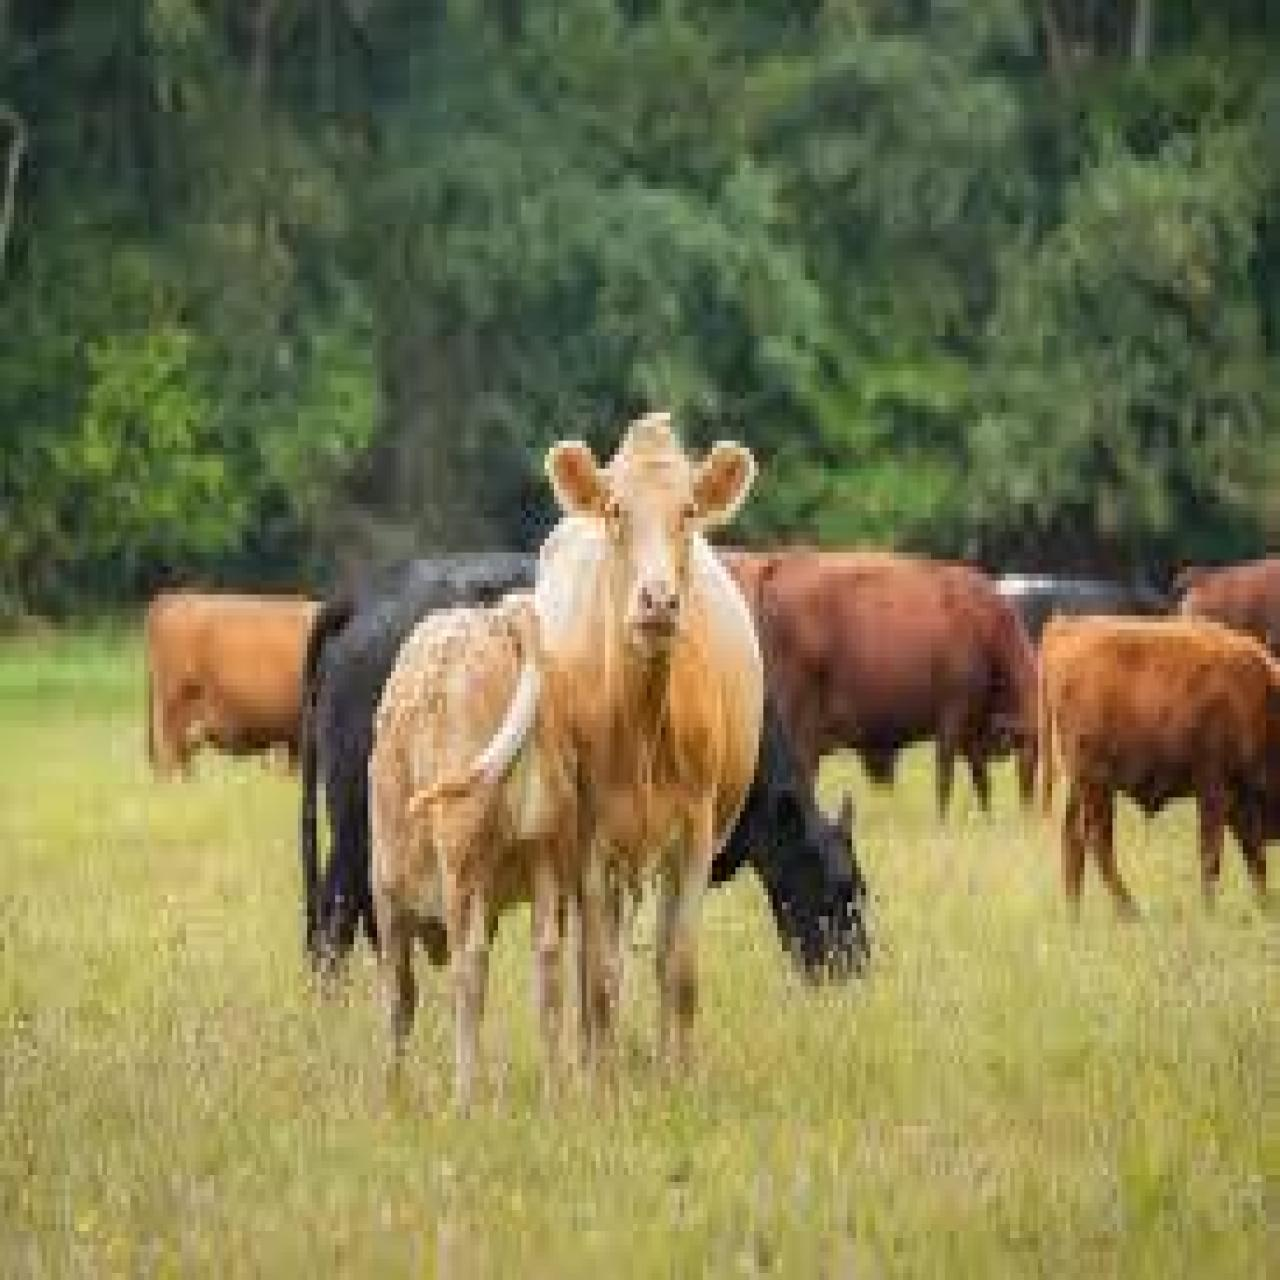cow: (302, 553, 876, 1049), (533, 413, 765, 1105), (368, 584, 583, 1137), (730, 549, 1042, 822), (1042, 608, 1280, 922), (142, 587, 324, 783), (996, 570, 1173, 647), (1173, 559, 1280, 658)
